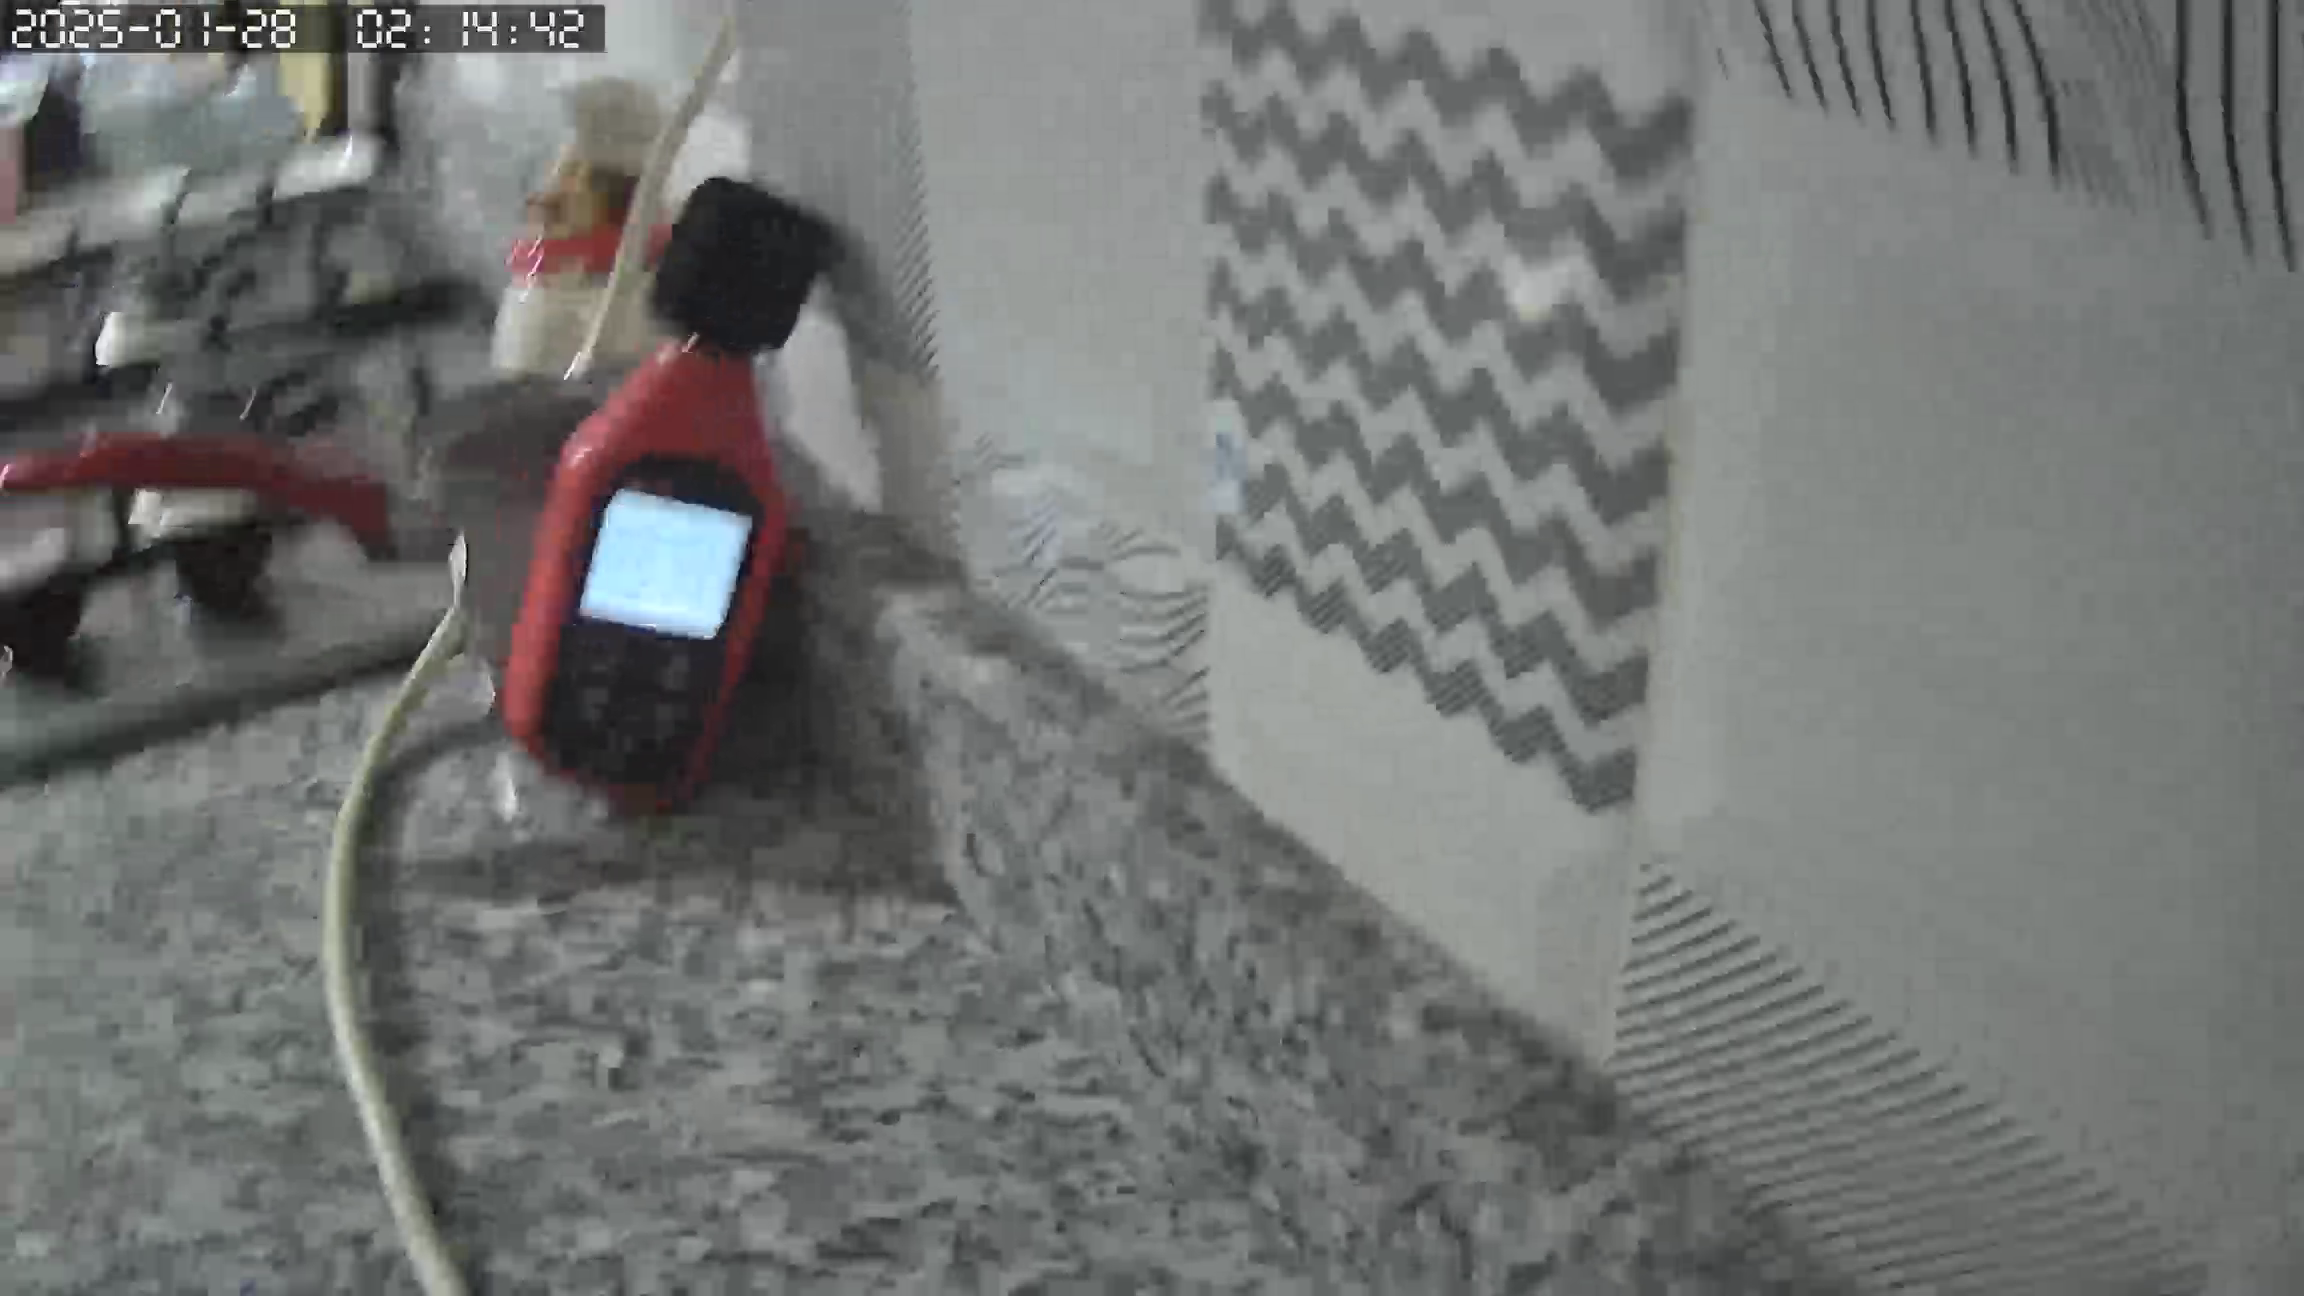screen: (581, 487, 756, 642)
